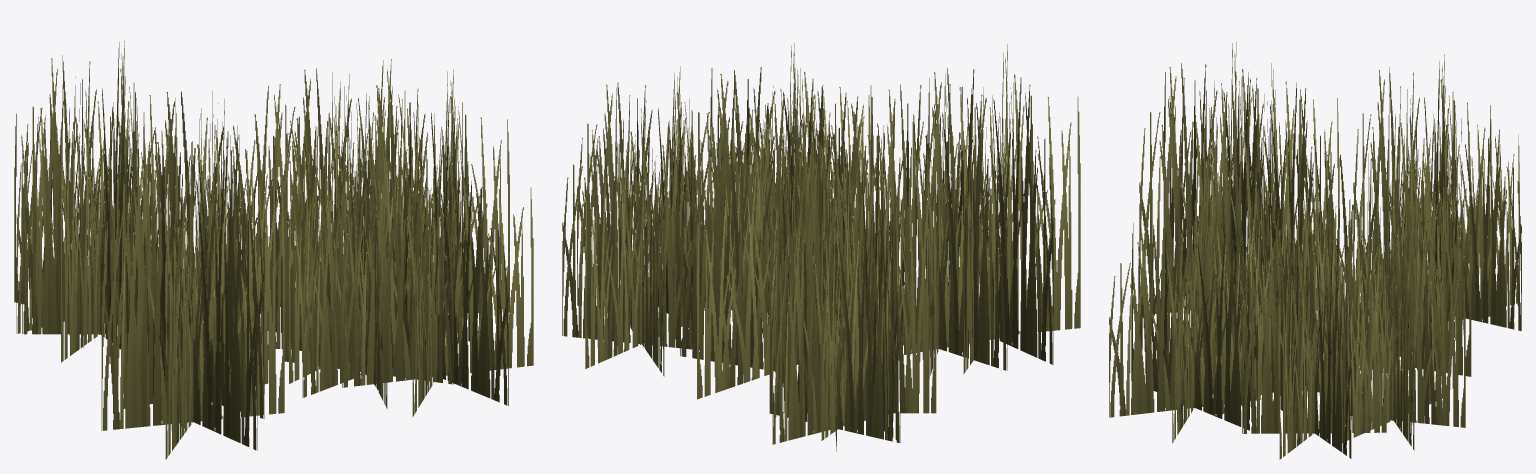
The model's file is grass-wild-protected.glb.
The picture shows the model from 3 angles, left to right: view 1: azimuth 30°, elevation 25°; view 2: azimuth 150°, elevation 25°; view 3: azimuth 270°, elevation 25°; orthographic projection. The views are drawn at different scales.
Parts seen in each view (by area): view 1: grass-wild-protected-blades; view 2: grass-wild-protected-blades; view 3: grass-wild-protected-blades.
Part boxes in pixels (bbox=[...]): grass-wild-protected-blades: bbox=[14, 41, 533, 459]; grass-wild-protected-blades: bbox=[562, 43, 1080, 451]; grass-wild-protected-blades: bbox=[1109, 41, 1521, 459].
Size of the model in its own units: 1.23 by 0.8011 by 1.15.
Materials: 1 (1 with a texture image).
